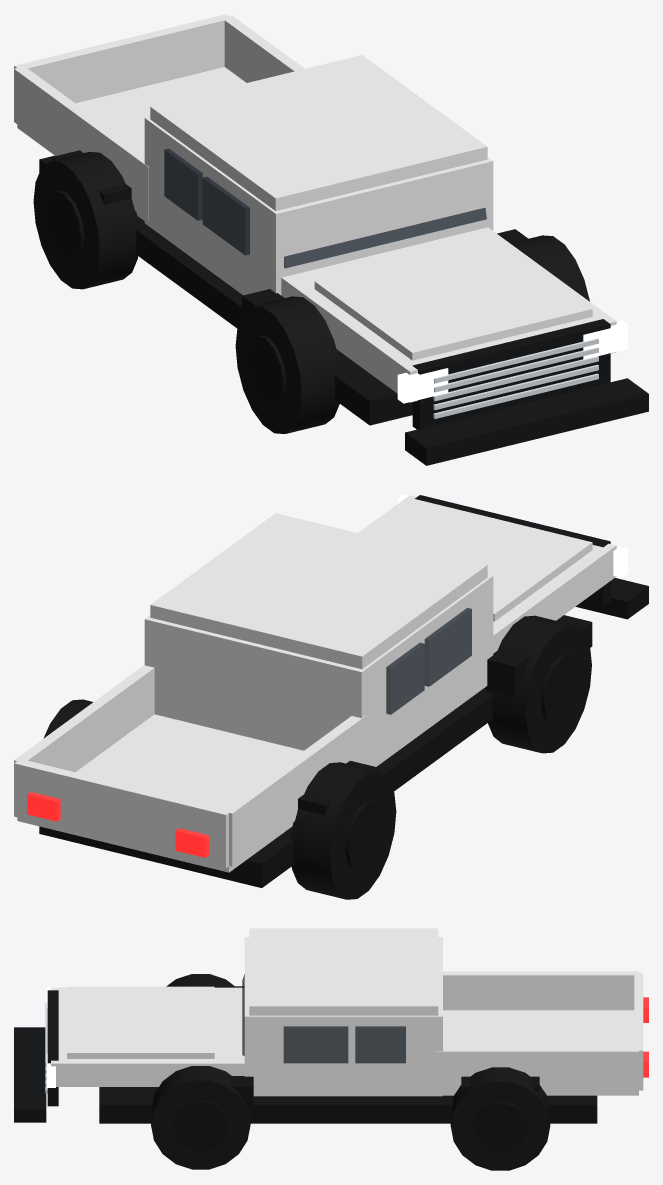
The model's file is headbutt-thunder-bison.glb.
3 views of the same model, one above another, from view 1: azimuth 30°, elevation 25°; view 2: azimuth 150°, elevation 25°; view 3: azimuth 270°, elevation 25° (orthographic). The views are drawn at different scales.
Visible parts, largest first — view 1: chassis, wheel-front-left, wheel-back-left, glass, wheel-front-right; view 2: chassis, wheel-back-left, wheel-front-left, wheel-back-right; view 3: chassis, wheel-back-right, wheel-front-right, wheel-front-left.
Part boxes in pixels (x1,y1,x2,y2): chassis: (14, 14, 648, 465); wheel-front-left: (235, 296, 340, 433); wheel-back-left: (33, 152, 138, 289); glass: (284, 207, 486, 268); wheel-front-right: (510, 235, 589, 301); chassis: (14, 494, 648, 887); wheel-back-left: (291, 762, 396, 899); wheel-front-left: (486, 615, 591, 753); wheel-back-right: (43, 699, 92, 738); chassis: (14, 928, 648, 1123); wheel-back-right: (450, 1067, 550, 1170); wheel-front-right: (151, 1066, 250, 1169); wheel-front-left: (166, 974, 234, 987).
Bounding box in the file's own units: 2.87 × 1.78 × 6.88.
